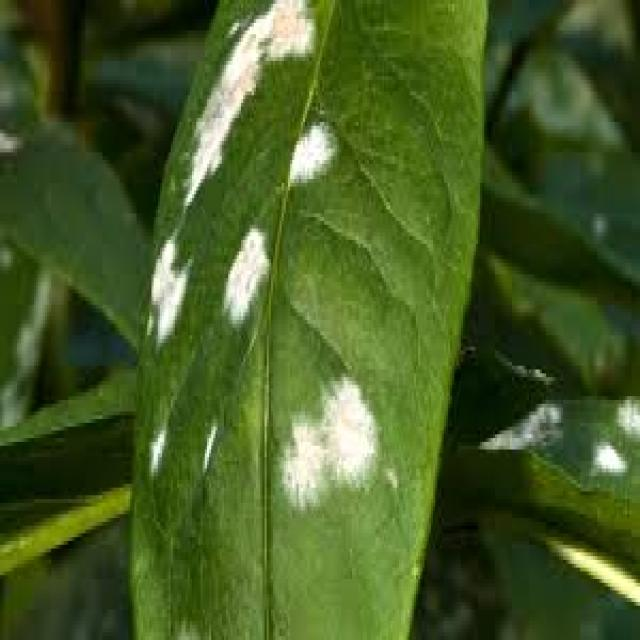powdery_mildew: (136, 0, 451, 546)
